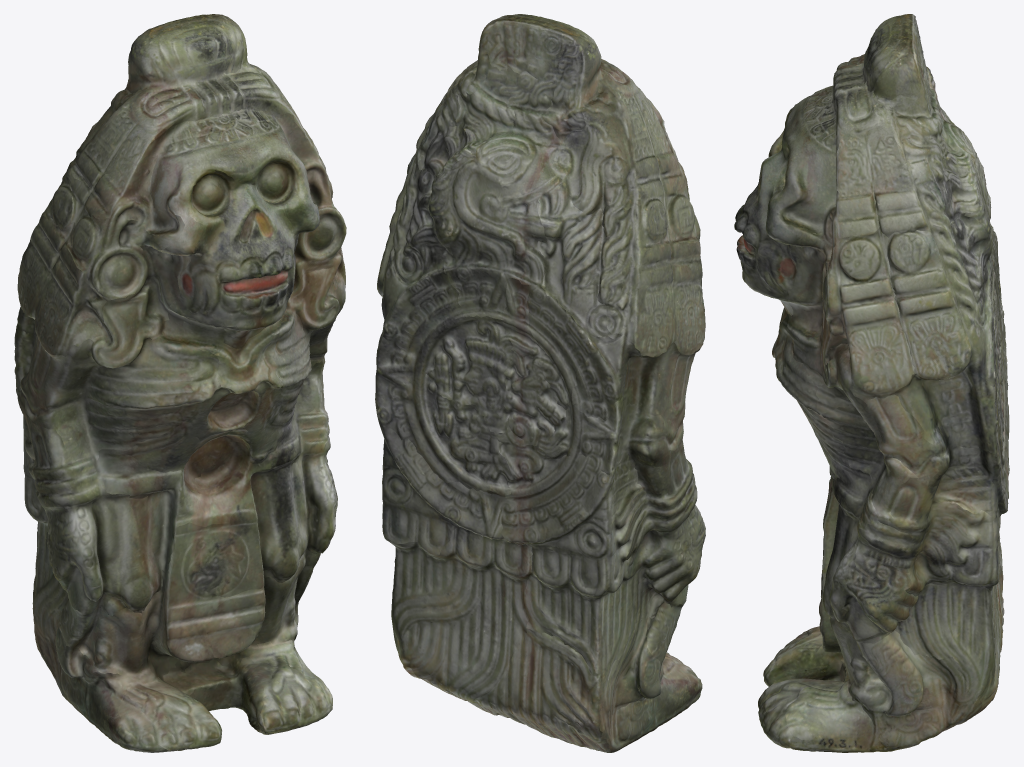
Rendered from copy_of_aztec_god_quetzalcoatl_or_xolotl.glb.
3 views of the same model, side by side, from view 1: azimuth 30°, elevation 25°; view 2: azimuth 150°, elevation 25°; view 3: azimuth 270°, elevation 25° (orthographic). The views are drawn at different scales.
Visible parts, largest first — view 1: 1949.03.0001 (mictlantecutli); view 2: 1949.03.0001 (mictlantecutli); view 3: 1949.03.0001 (mictlantecutli).
Part boxes in pixels (x1,y1,x2,y2): 1949.03.0001 (mictlantecutli): (14,14,346,752); 1949.03.0001 (mictlantecutli): (375,14,705,752); 1949.03.0001 (mictlantecutli): (734,14,1009,752).
Size of the model in its own units: 0.1265 by 0.2872 by 0.105.
Materials: 1 (1 with a texture image).
